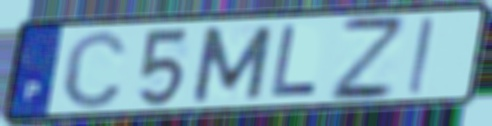5: (133, 24, 194, 108)
C: (58, 26, 130, 112)
I: (405, 15, 436, 97)
L: (267, 22, 321, 100)
M: (188, 23, 277, 105)
Z: (328, 14, 406, 104)
